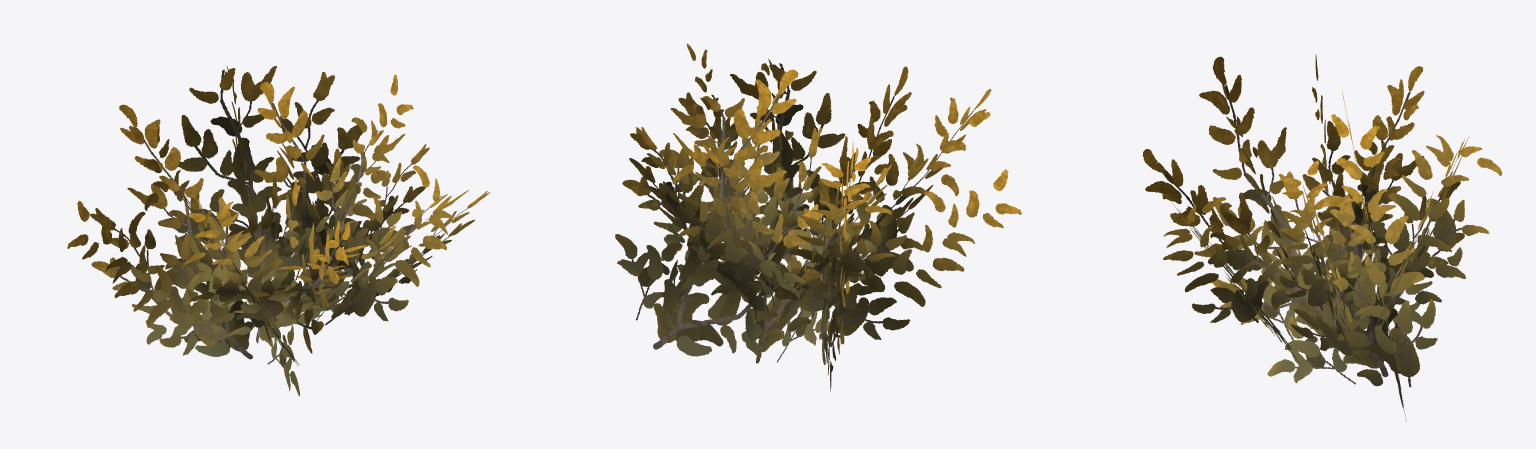
File: SM_DesertBush02.fbx
3 renders of one model, left to right at view 1: azimuth 30°, elevation 25°; view 2: azimuth 150°, elevation 25°; view 3: azimuth 270°, elevation 25°, orthographic.
Parts seen in each view (by area): view 1: SM_DesertBush02; view 2: SM_DesertBush02; view 3: SM_DesertBush02.
Part boxes in pixels (x1,y1,x2,y2): SM_DesertBush02: [67, 65, 490, 396]; SM_DesertBush02: [615, 43, 1021, 391]; SM_DesertBush02: [1143, 55, 1502, 421].
Size of the model in its own units: 425 by 332 by 350.
